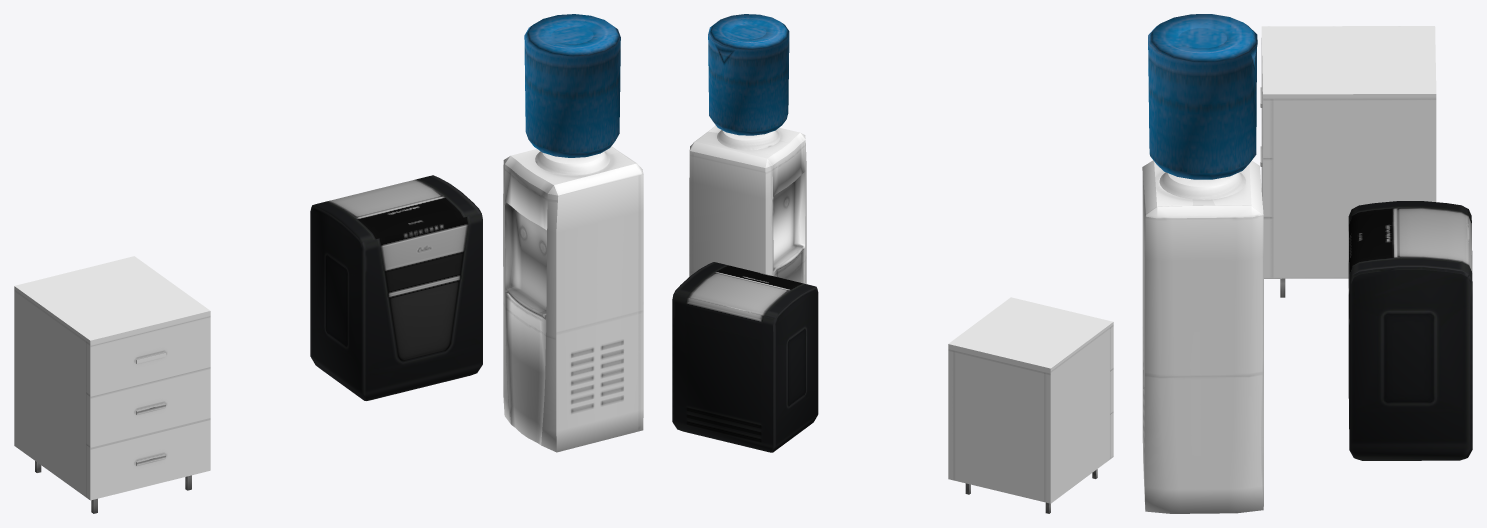
Rendered from office stuff.fbx.
3 renders of one model, left to right at view 1: azimuth 30°, elevation 25°; view 2: azimuth 150°, elevation 25°; view 3: azimuth 270°, elevation 25°, orthographic. The views are drawn at different scales.
Visible parts, largest first — view 1: drawer.001_low.001_drawer_0, water dispenser-01_low.001_water dispenser_0, paper crusher.000_low.001_paper crusher_0, water dispenser-05_low.001_water dispenser_0; view 2: drawer.001_low.001_drawer_0, paper crusher.000_low.001_paper crusher_0, water dispenser-01_low.001_water dispenser_0, water dispenser-05_low.001_water dispenser_0; view 3: water dispenser-01_low.001_water dispenser_0, drawer.001_low.001_drawer_0, paper crusher.000_low.001_paper crusher_0, water dispenser-05_low.001_water dispenser_0.
Part boxes in pixels (<box>): drawer.001_low.001_drawer_0: <box>14,256,210,513</box>; water dispenser-01_low.001_water dispenser_0: <box>503,146,643,452</box>; paper crusher.000_low.001_paper crusher_0: <box>310,175,482,400</box>; water dispenser-05_low.001_water dispenser_0: <box>524,14,620,157</box>; drawer.001_low.001_drawer_0: <box>948,297,1113,513</box>; paper crusher.000_low.001_paper crusher_0: <box>672,262,818,452</box>; water dispenser-01_low.001_water dispenser_0: <box>689,125,806,283</box>; water dispenser-05_low.001_water dispenser_0: <box>708,14,789,135</box>; water dispenser-01_low.001_water dispenser_0: <box>1142,160,1263,513</box>; drawer.001_low.001_drawer_0: <box>1260,26,1436,297</box>; paper crusher.000_low.001_paper crusher_0: <box>1348,201,1472,460</box>; water dispenser-05_low.001_water dispenser_0: <box>1148,14,1257,179</box>.
Bounding box in the file's own units: 91.55 × 68.36 × 44.61.
1 material, 1 textured.
